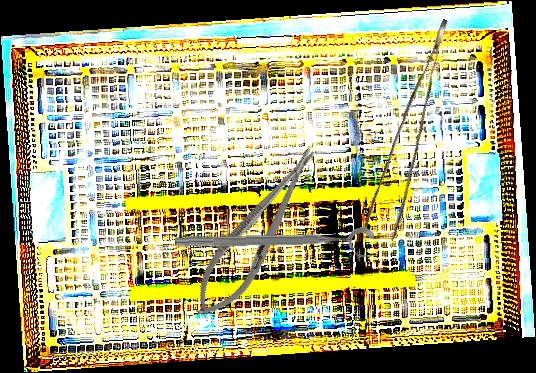Fixation Ring: (174, 227, 375, 263)
Needle Holder: (180, 136, 334, 330)
Tissue Forceps: (352, 18, 484, 242)
